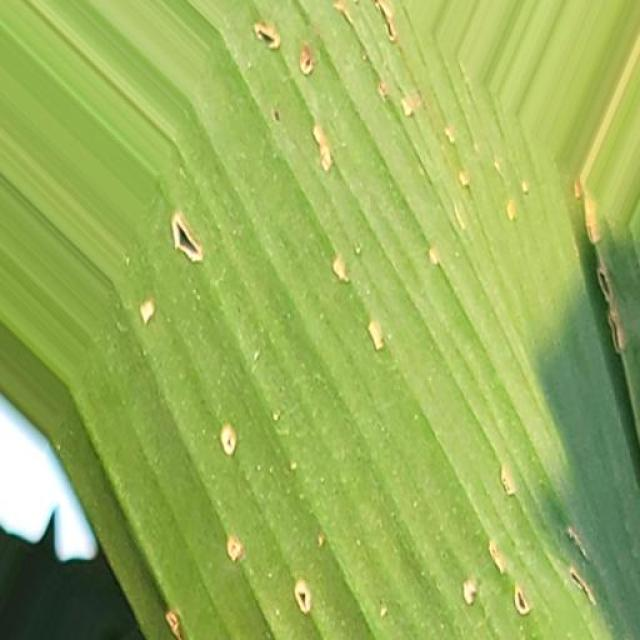Black_rot: (126, 10, 640, 640)
